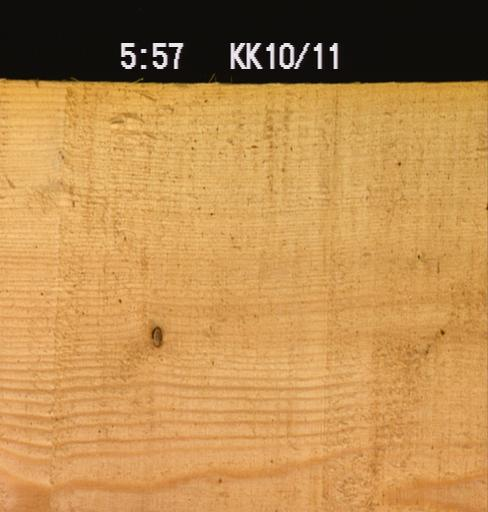dry_knot: (149, 323, 163, 348)
small_knot: (435, 324, 447, 337)
